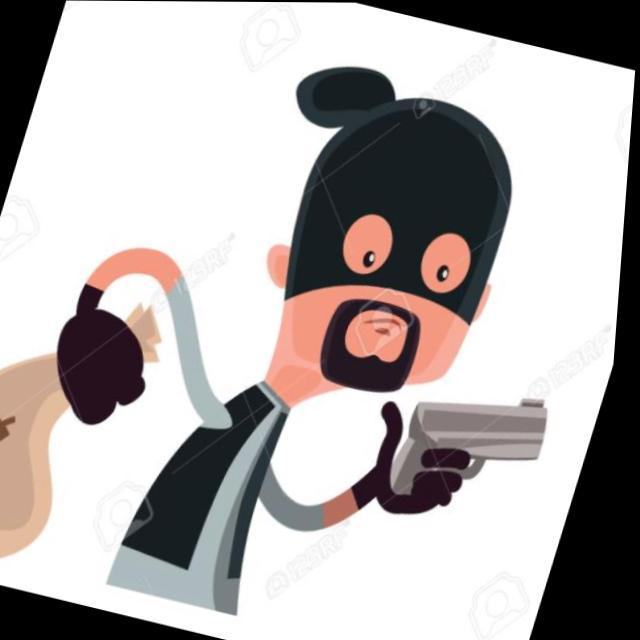weapon: (383, 363, 566, 538)
